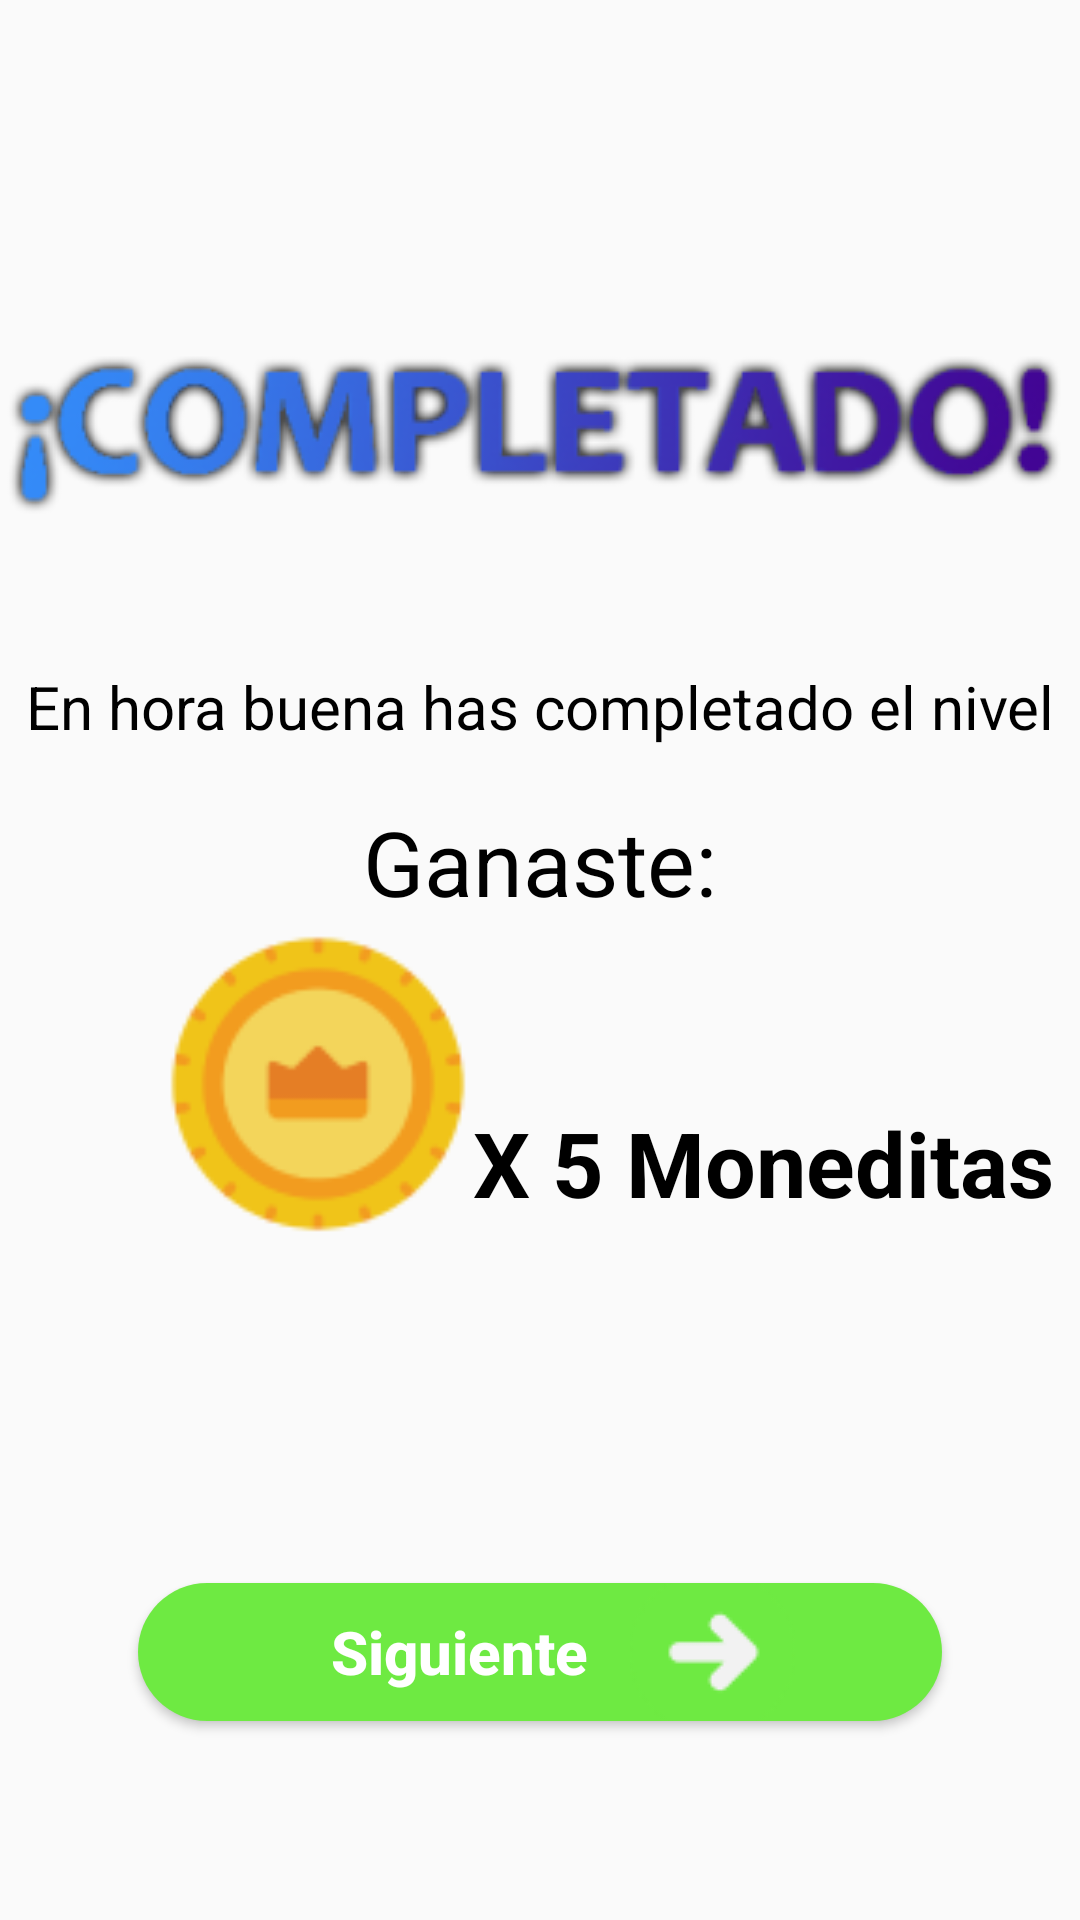

Locate icon controls on the screen. Image size 1080×1920, boxes as {"x1": x1, "y1": y1, "x2": x2, "y2": y2}.
moneda grande: {"x1": 170, "y1": 936, "x2": 466, "y2": 1232}
